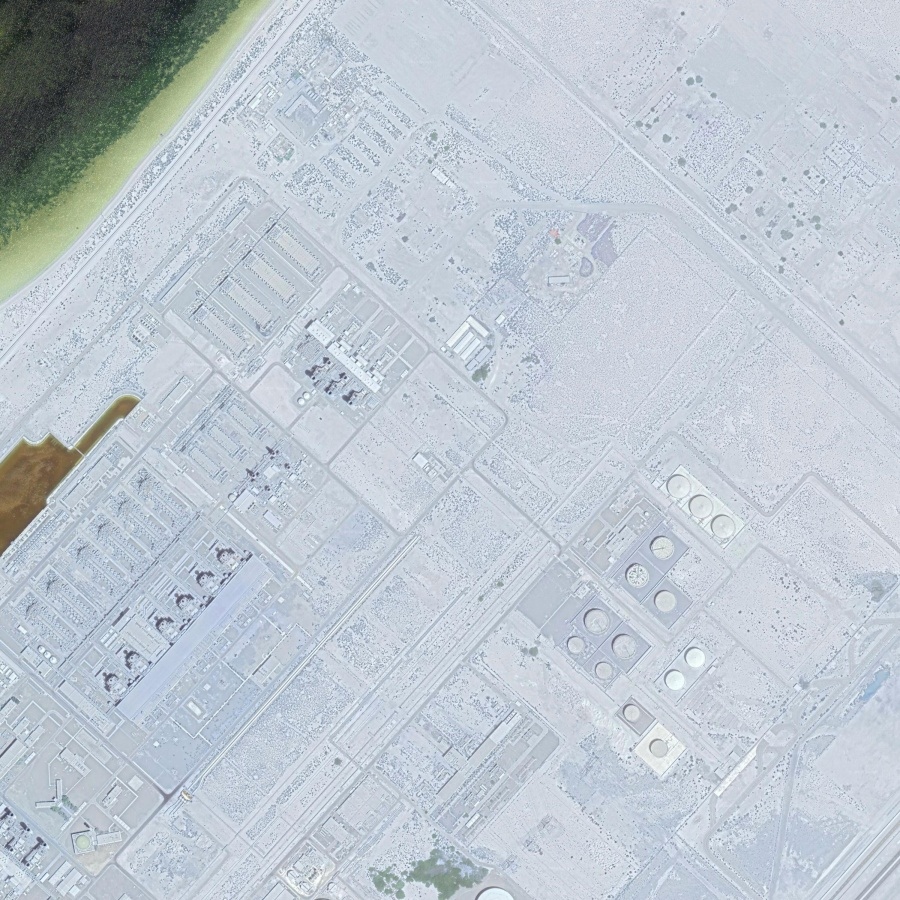PowerPlant: (555, 468, 767, 765)
